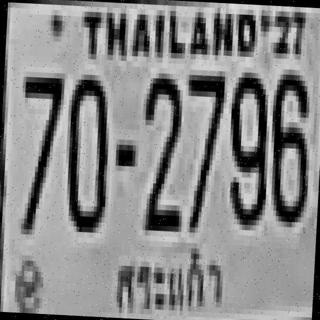N00: (63, 68, 109, 228)
N02: (137, 70, 184, 229), (140, 70, 186, 230)
N06: (265, 69, 311, 223)
N07: (15, 72, 62, 231), (180, 70, 224, 229)
N09: (223, 66, 270, 226)
P55: (108, 244, 230, 320)
